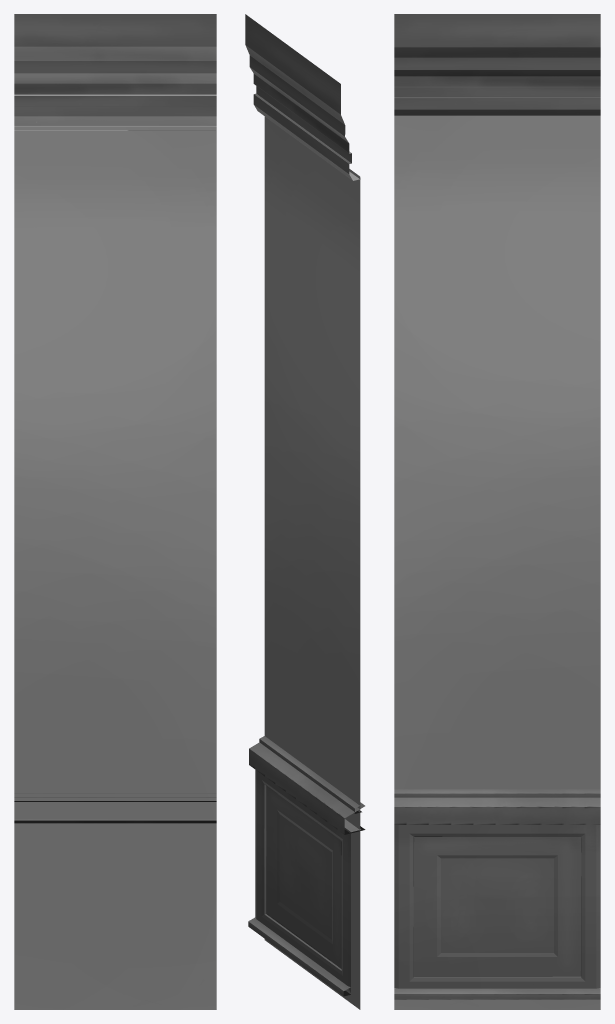
The model's file is Wall_PanelStandard_HalfLength.001.fbx.
3 renders of one model, left to right at view 1: azimuth 90°, elevation 25°; view 2: azimuth 210°, elevation 25°; view 3: azimuth 270°, elevation 25°, orthographic. The views are drawn at different scales.
Parts seen in each view (by area): view 1: Wall_PanelStandard_HalfLength.001; view 2: Wall_PanelStandard_HalfLength.001; view 3: Wall_PanelStandard_HalfLength.001.
Part boxes in pixels (x1,y1,x2,y2): Wall_PanelStandard_HalfLength.001: [14, 14, 216, 1009]; Wall_PanelStandard_HalfLength.001: [245, 14, 365, 1009]; Wall_PanelStandard_HalfLength.001: [394, 14, 600, 1009].
Size of the model in its own units: 14.97 by 540 by 101.
